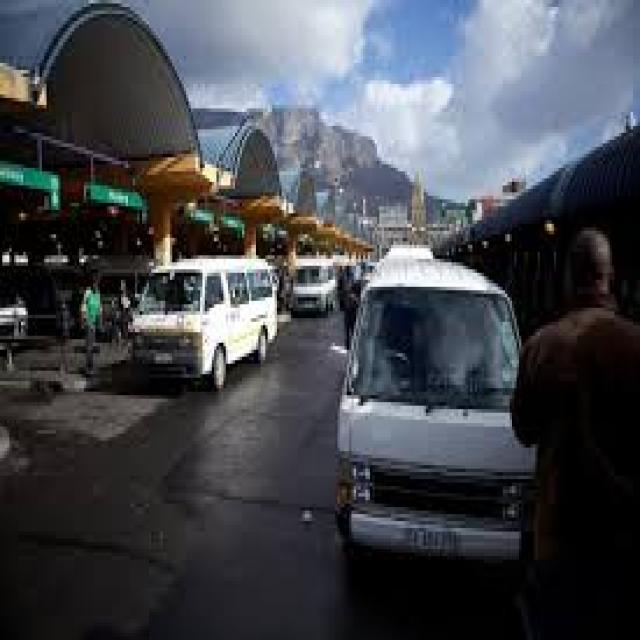MiniBus taxi: (335, 258, 545, 566), (132, 255, 282, 388)
